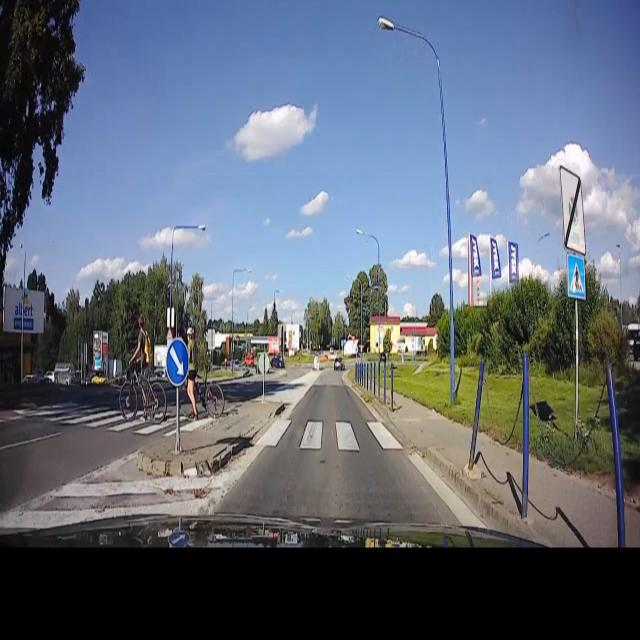Pedestrian crosswalk: (564, 250, 587, 300)
